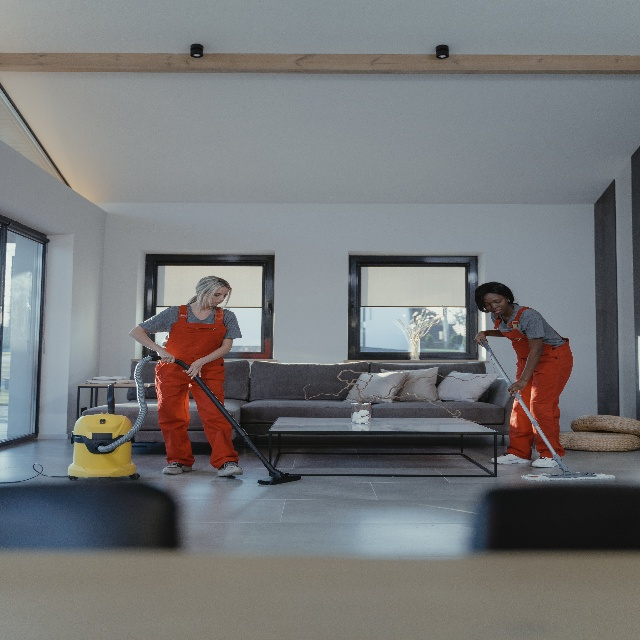Sin_guantes: (181, 358, 202, 380), (507, 377, 527, 397), (473, 329, 489, 349), (159, 348, 175, 364)
